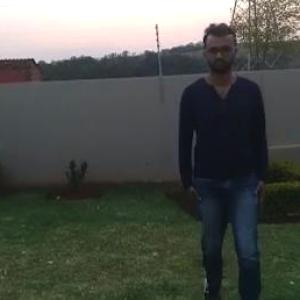follow: (170, 14, 262, 299)
